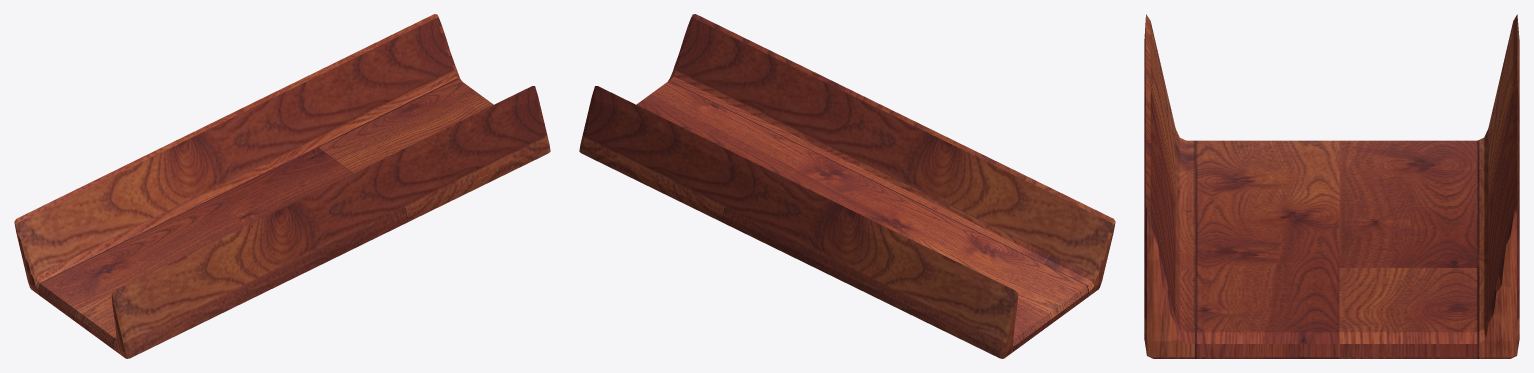
Rendered from slidered.glb.
3 views of the same model, side by side, from view 1: azimuth 30°, elevation 25°; view 2: azimuth 150°, elevation 25°; view 3: azimuth 270°, elevation 25° (orthographic). The views are drawn at different scales.
Parts seen in each view (by area): view 1: Slide_Red; view 2: Slide_Red; view 3: Slide_Red.
Part boxes in pixels (x1=…): Slide_Red: x1=14, y1=14, x2=550, y2=358; Slide_Red: x1=579, y1=14, x2=1115, y2=358; Slide_Red: x1=1144, y1=14, x2=1519, y2=358.
Bounding box in the file's own units: 1.79 × 0.6852 × 0.7.
1 material, 1 textured.
